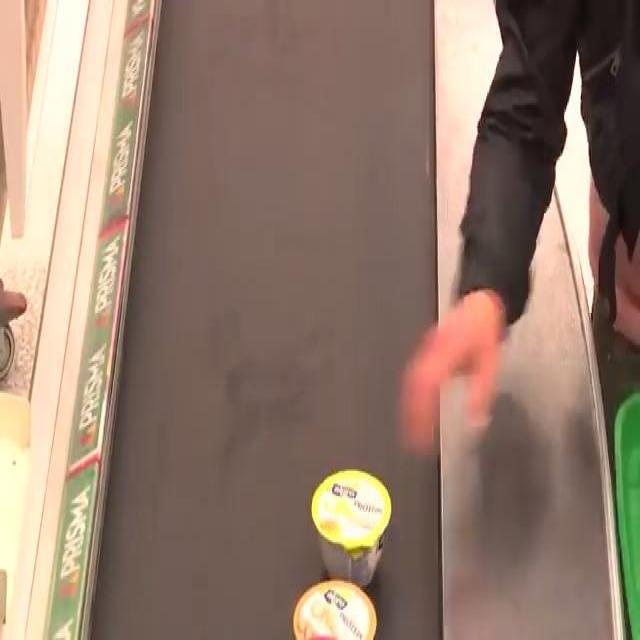food-box: (314, 435, 392, 582), (279, 560, 387, 640)
